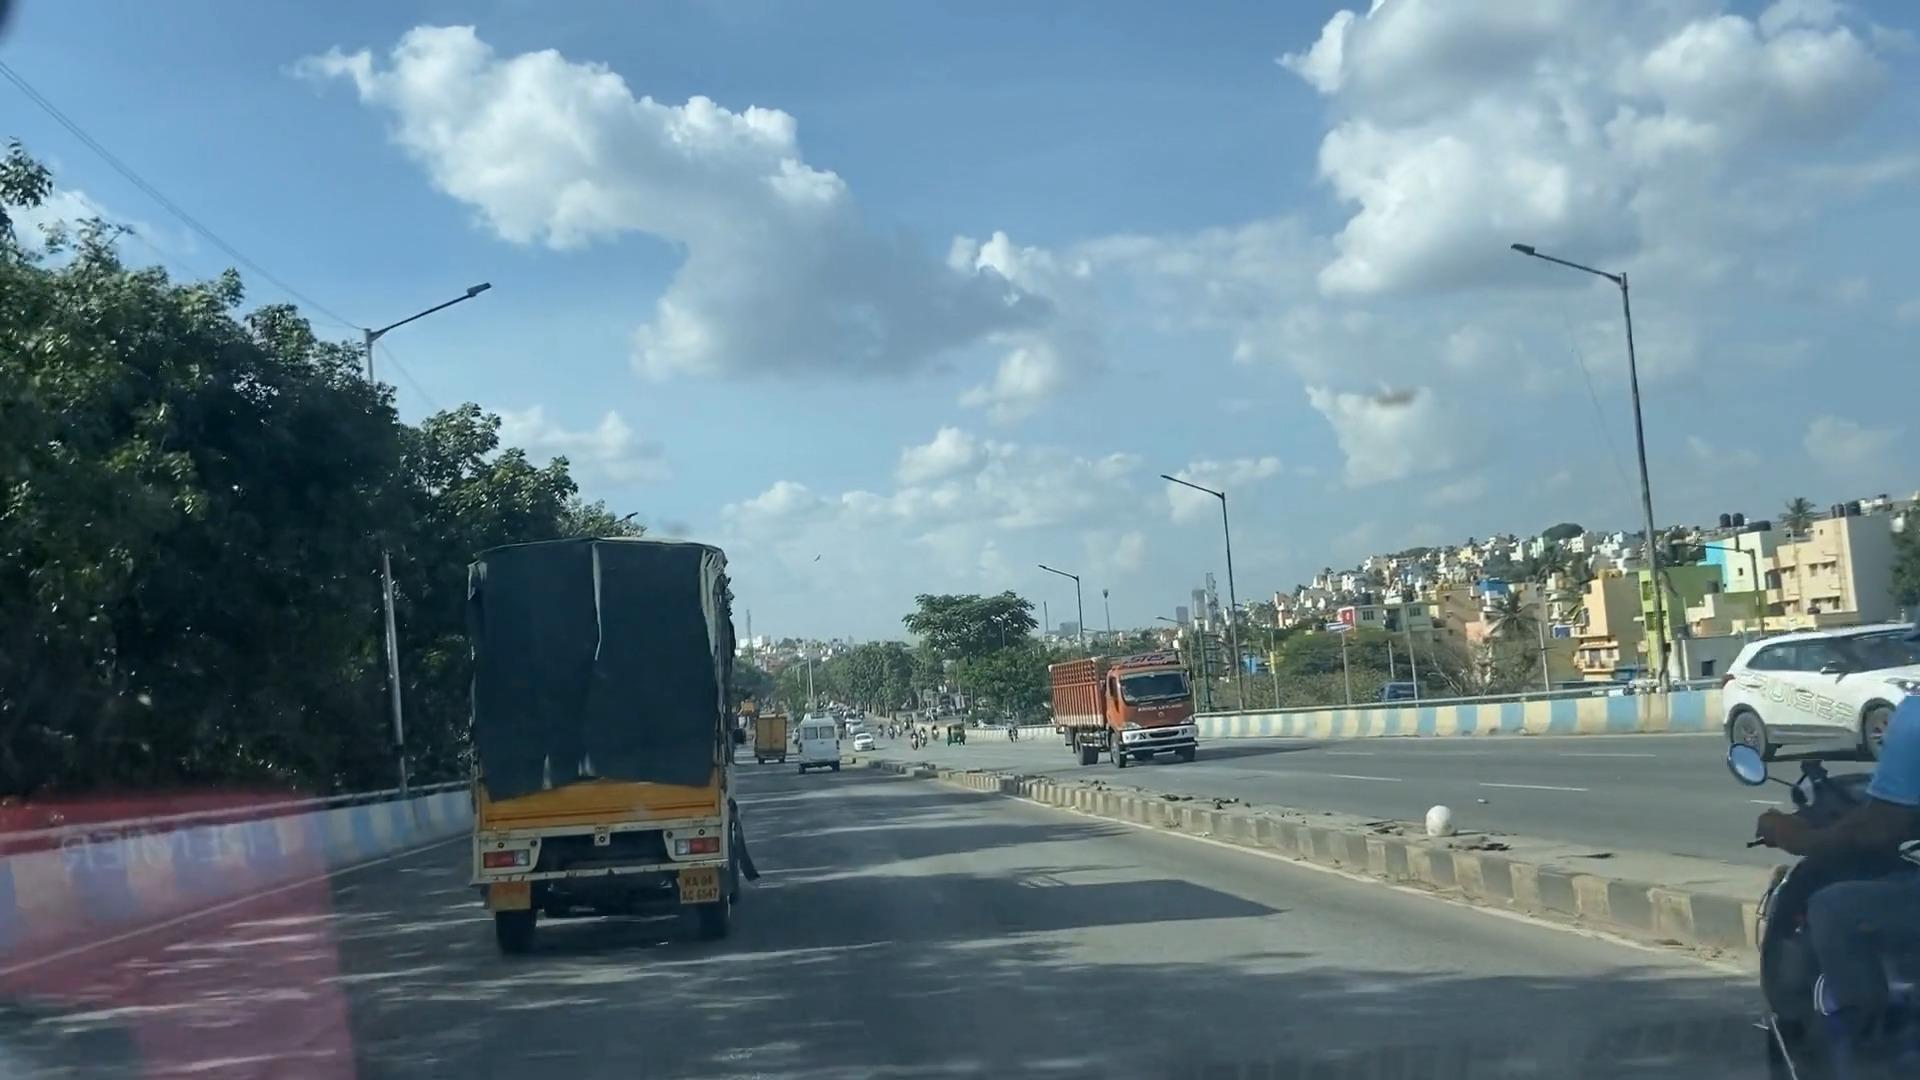HMV: (463, 502, 748, 971)
